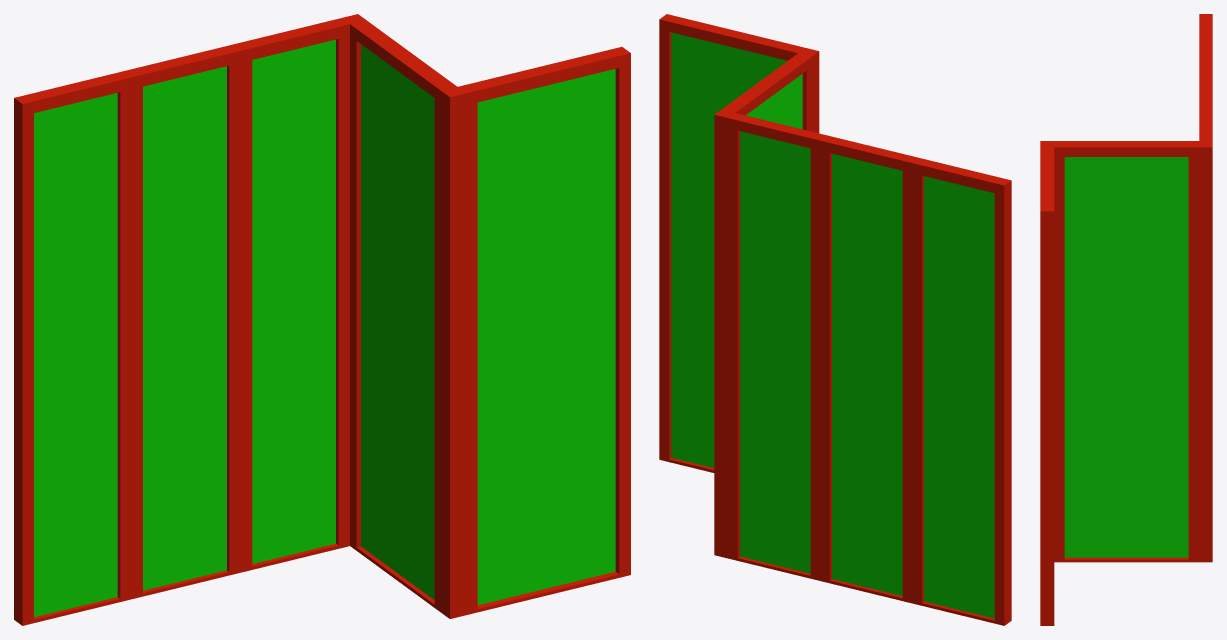
File: Wall_Loby3.fbx
The picture shows the model from 3 angles, left to right: view 1: azimuth 30°, elevation 25°; view 2: azimuth 150°, elevation 25°; view 3: azimuth 270°, elevation 25°; orthographic projection. The views are drawn at different scales.
Visible parts, largest first — view 1: wall_nextto_stair; view 2: wall_nextto_stair; view 3: wall_nextto_stair.
Boxes of the visible parts, box(x1,y1,x2,y2) form: wall_nextto_stair: box(14, 14, 630, 625); wall_nextto_stair: box(659, 14, 1011, 625); wall_nextto_stair: box(1040, 14, 1212, 625).
Bounding box in the file's own units: 400 × 393 × 148.
